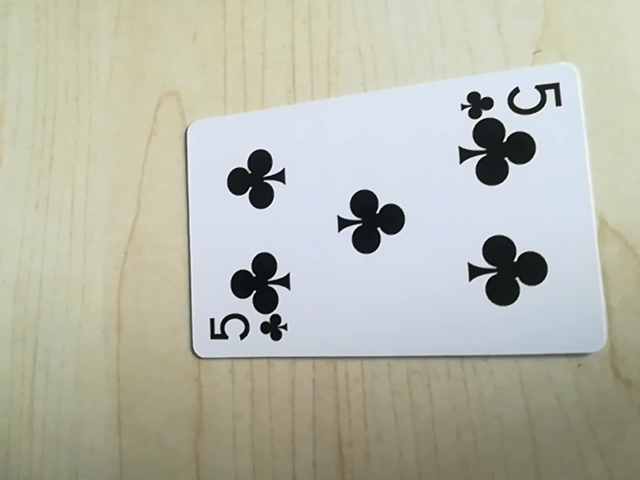mh 5: (457, 78, 562, 122), (203, 309, 290, 351)
